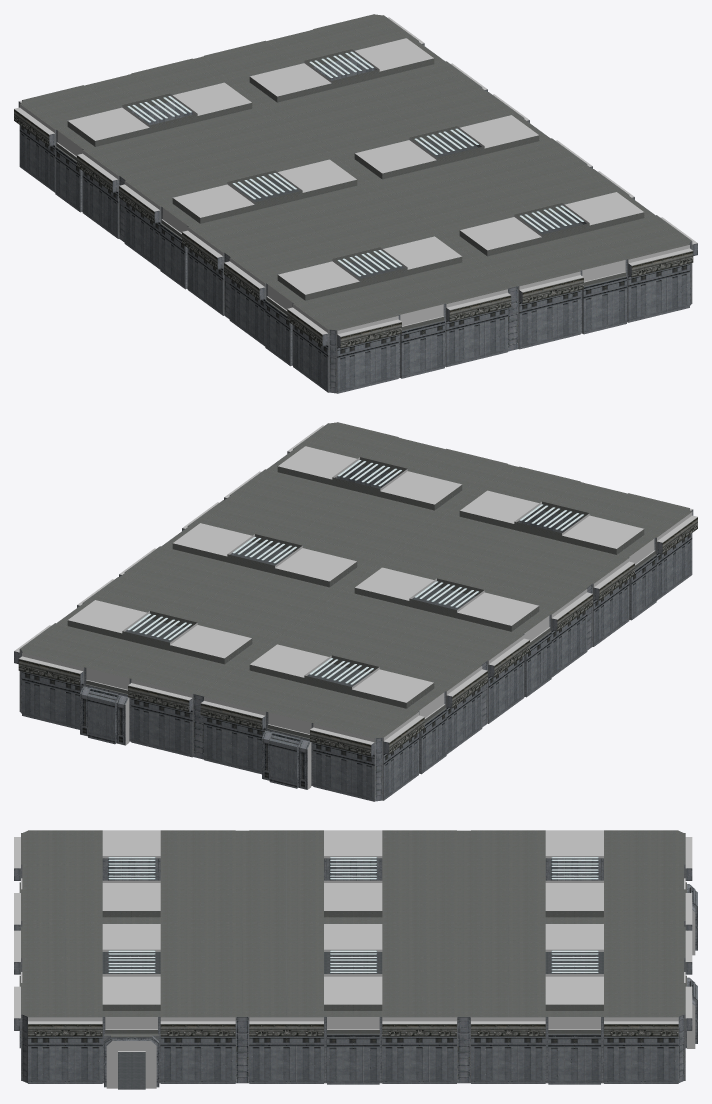
The model's file is poi_all_impl_bunker_warren_s01_r13_medroom13_mesh_r13.fbx.
The picture shows the model from 3 angles, top to bottom: view 1: azimuth 30°, elevation 25°; view 2: azimuth 150°, elevation 25°; view 3: azimuth 270°, elevation 25°; orthographic projection. The views are drawn at different scales.
Visible parts, largest first — view 1: mesh_node; view 2: mesh_node; view 3: mesh_node.
Boxes of the visible parts, x1,y1,x2,y2 form: mesh_node: (14,14,697,393); mesh_node: (14,422,697,801); mesh_node: (14,830,697,1089).
Bounding box in the file's own units: 33.5 × 6 × 49.4.
